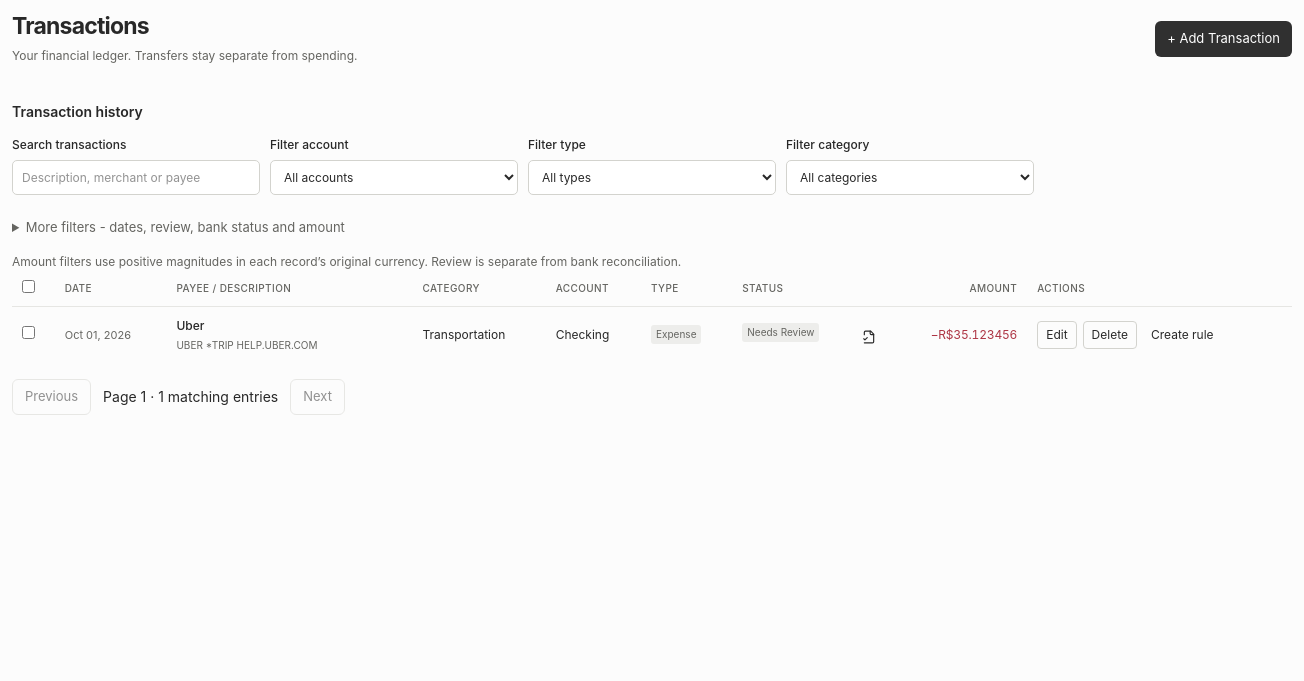
it: creates and renames a payee with explicit global rename confirmation
Click the button "Edit": (1057, 335) [1037,321,1077,349]
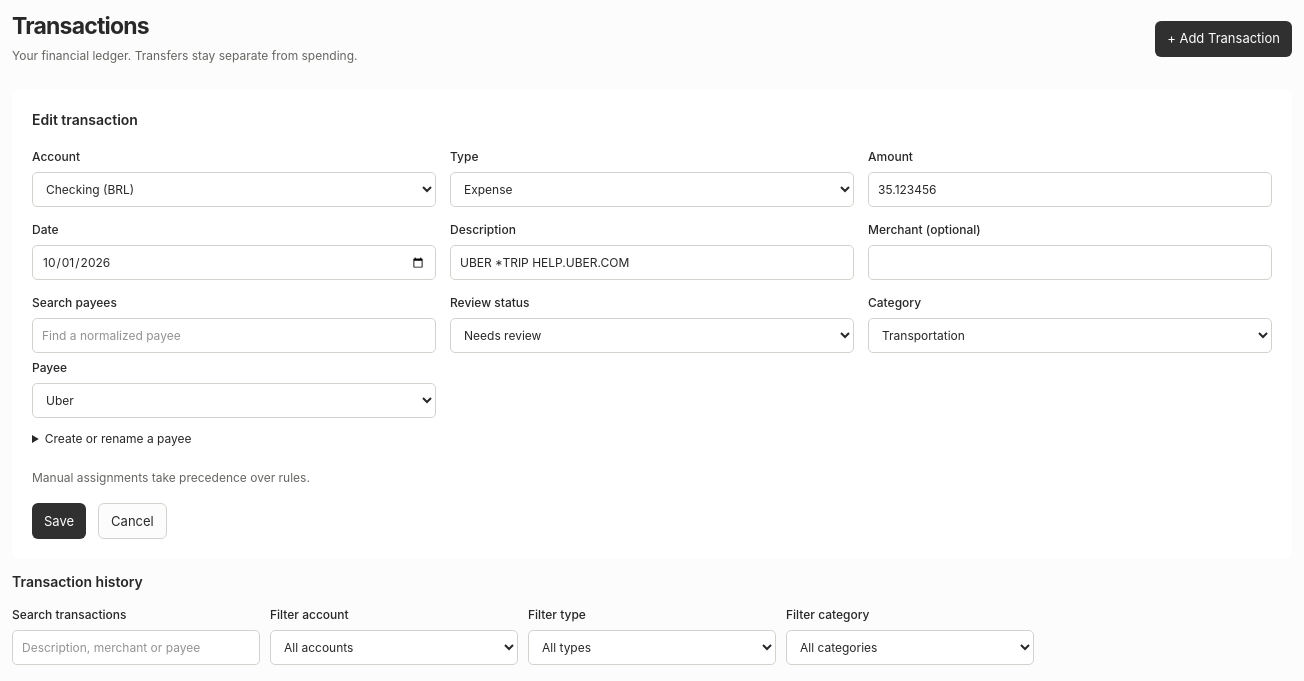
Click the heading "Create or rename a payee": (118, 439) [45,431,192,446]
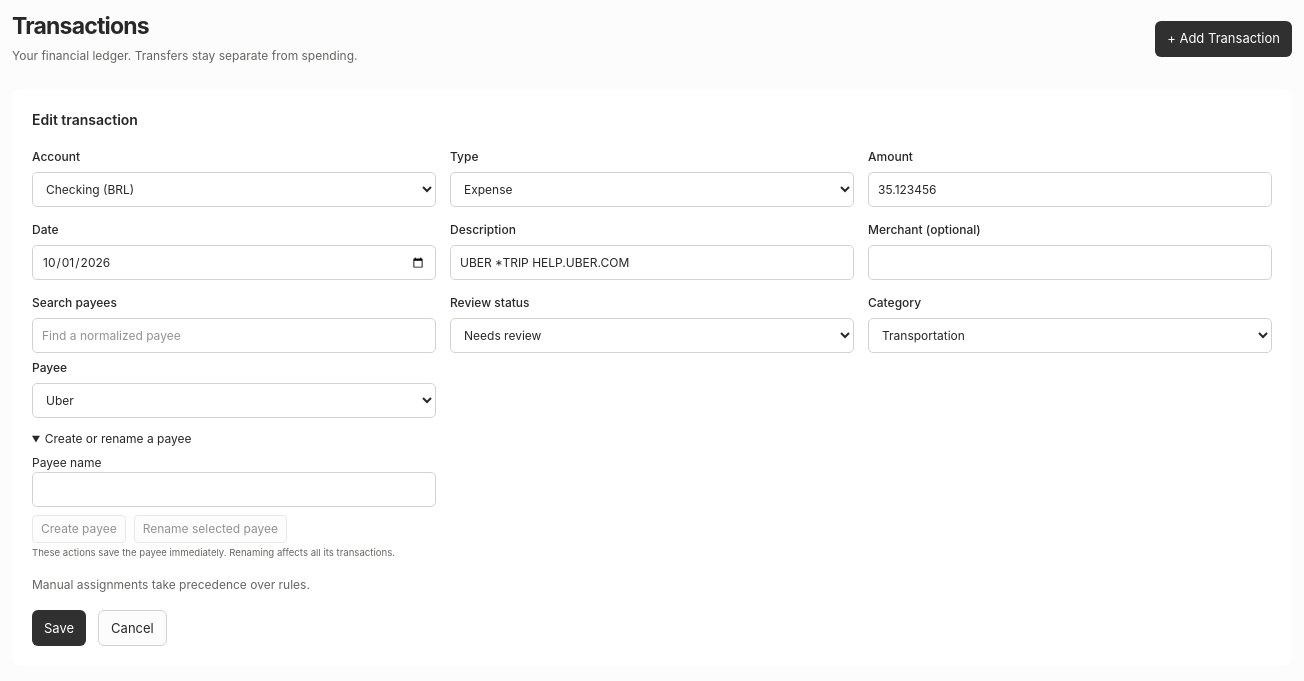
In the field labelled "Payee name": (234, 490) [32,472,436,507], type "Uber Local"
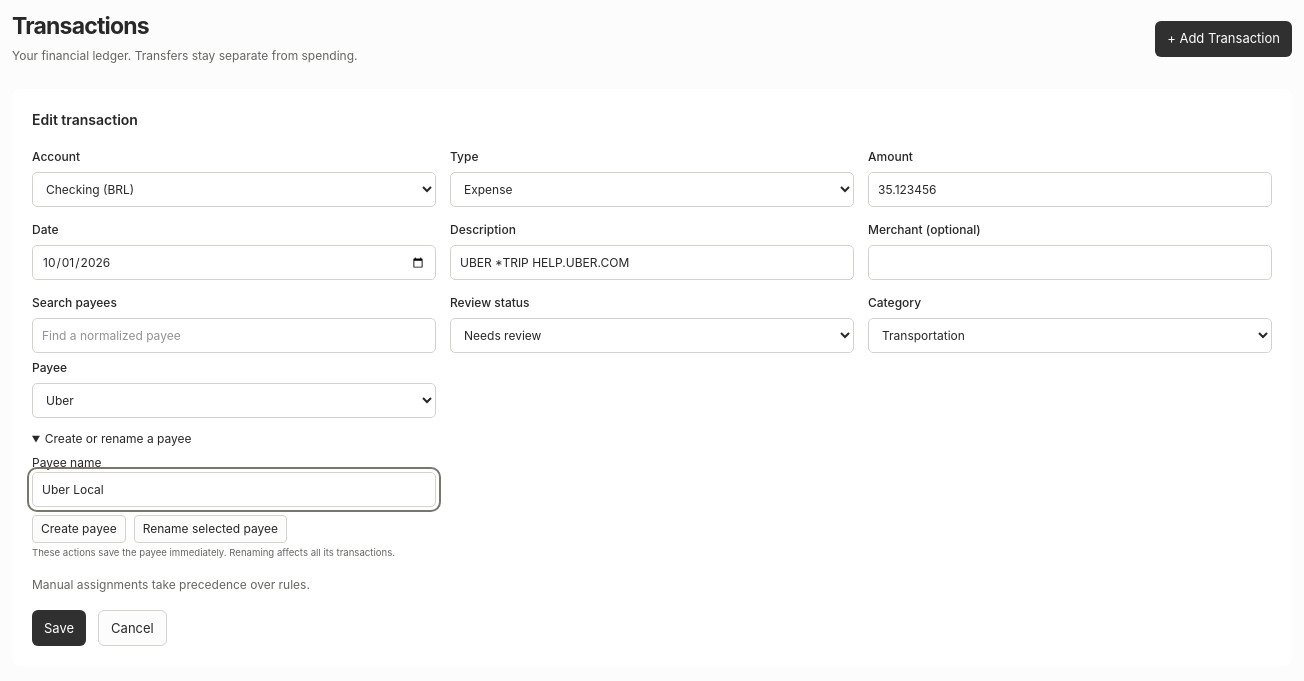
Click the button "Rename selected payee": (210, 529) [134,515,287,543]
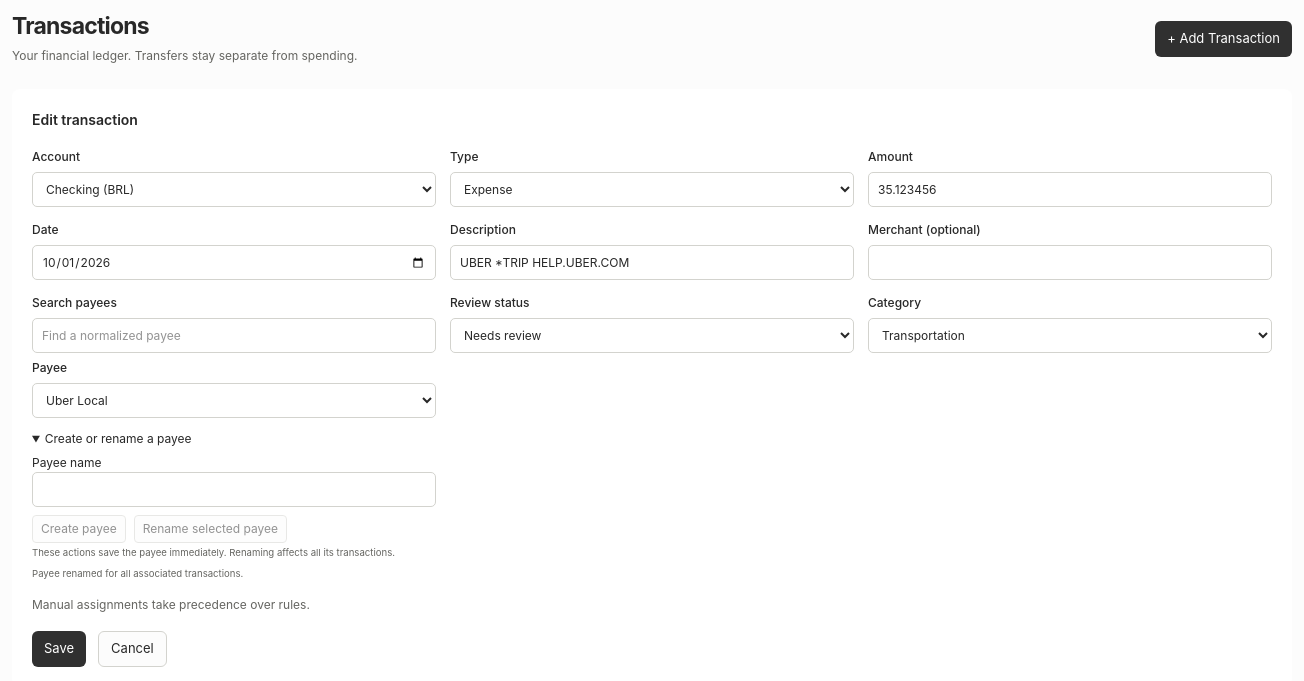
Expected: the field labelled "Description" holds "UBER *TRIP HELP.UBER.COM", [450,245,854,280]
Expected: the text "Payee renamed for all associated transactions." is shown, [32,568,243,579]
In the field labelled "Payee name": (234, 490) [32,472,436,507], type "Synthetic new payee"
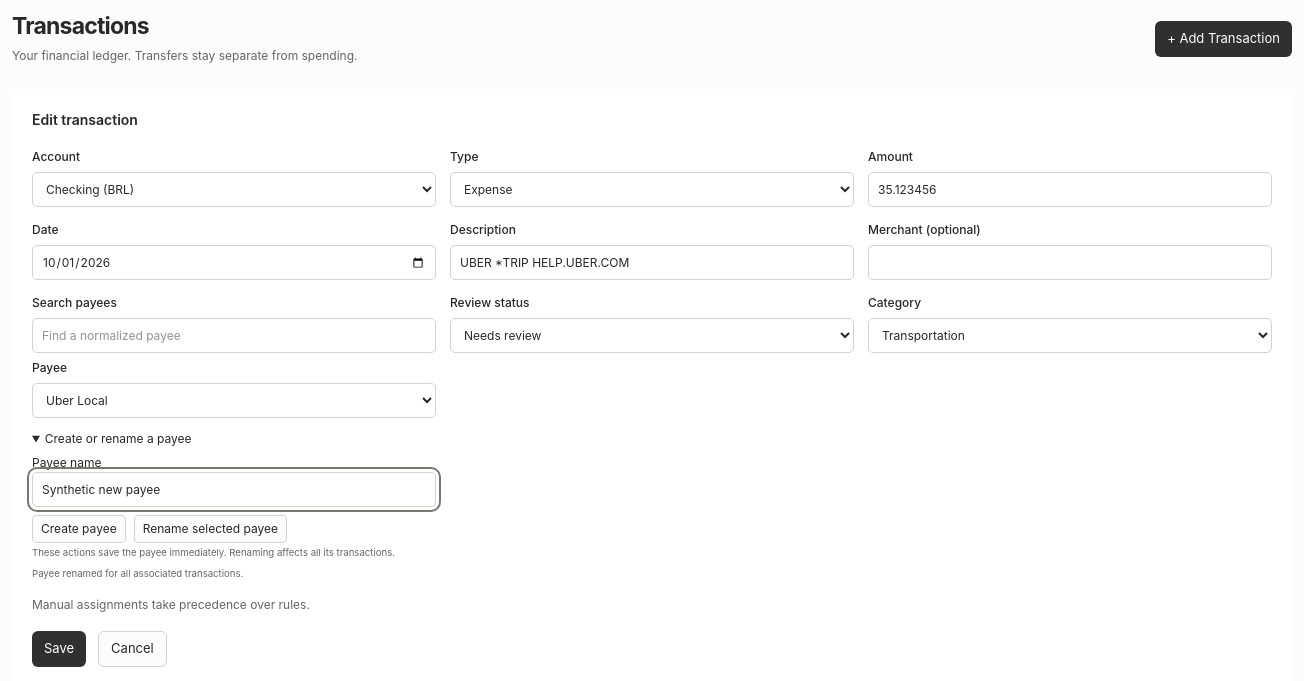
Click the button "Create payee": (79, 529) [32,515,126,543]
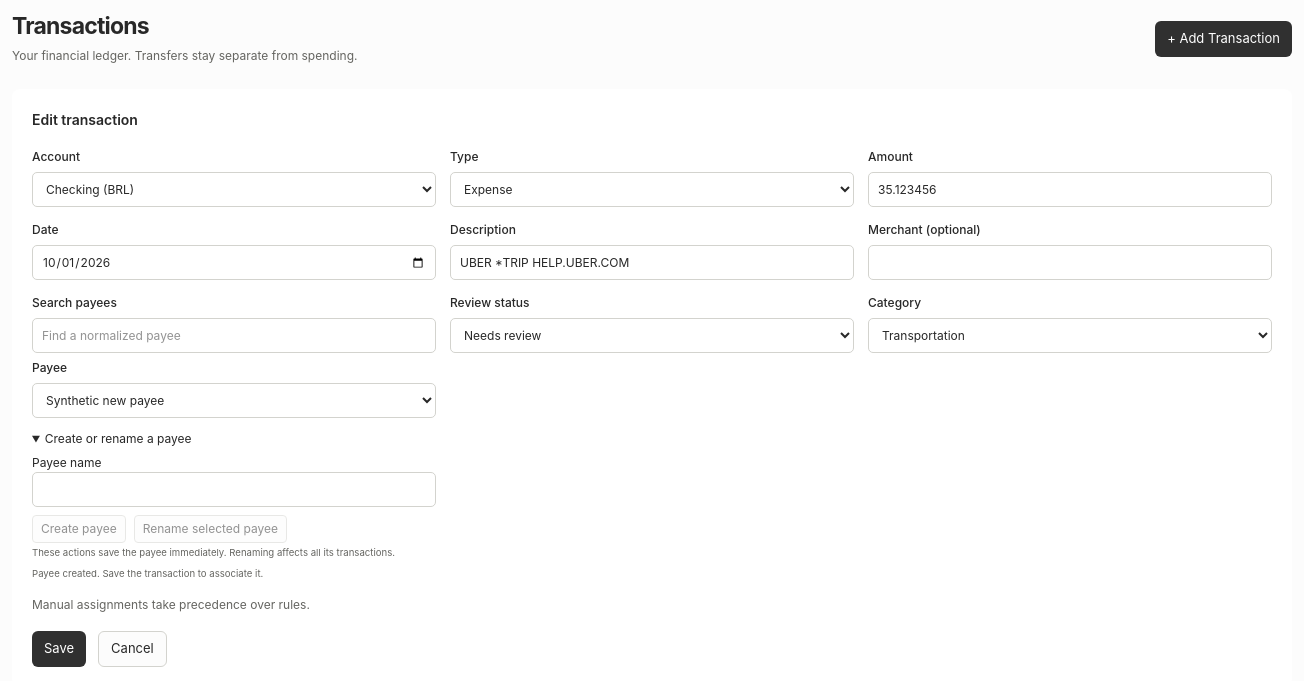
Expected: the text "Payee created. Save the transaction to associate it." is shown, [32,568,263,579]
Expected: the dropdown labelled "Payee" shows "Synthetic new payee", [32,383,436,418]
